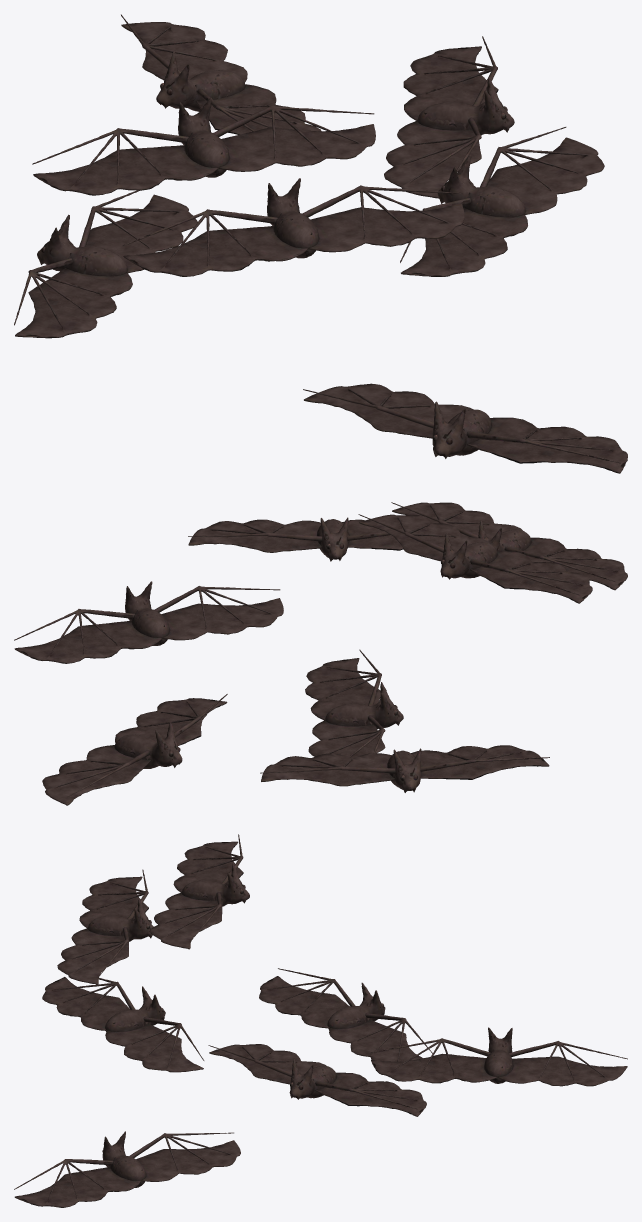
The model's file is bat_swarm.glb.
3 views of the same model, one above another, from view 1: azimuth 30°, elevation 25°; view 2: azimuth 150°, elevation 25°; view 3: azimuth 270°, elevation 25° (orthographic). The views are drawn at different scales.
Visible parts, largest first — view 1: Wing_L_6_Membrane, Wing_L_2_Membrane, Wing_R_2_Membrane, Wing_R_6_Membrane, Wing_L_0_Membrane, Wing_R_5_Membrane, Wing_L_1_Membrane, Wing_R_3_Membrane, Wing_R_0_Membrane, Wing_L_5_Membrane, Wing_R_1_Membrane, Wing_L_3_Membrane (+9 smaller); view 2: Wing_L_3_Membrane, Wing_R_3_Membrane, Wing_L_2_Membrane, Wing_R_4_Membrane, Wing_R_0_Membrane, Wing_R_5_Membrane, Wing_L_0_Membrane, Wing_L_1_Membrane, Wing_R_2_Membrane, Wing_L_4_Membrane, Wing_L_6_Membrane, Wing_R_1_Membrane (+9 smaller); view 3: Wing_R_4_Membrane, Wing_L_4_Membrane, Wing_L_1_Membrane, Wing_R_1_Membrane, Wing_R_5_Membrane, Wing_L_0_Membrane, Wing_L_5_Membrane, Wing_L_3_Membrane, Wing_R_0_Membrane, Wing_R_2_Membrane, Wing_R_6_Membrane, Wing_R_3_Membrane (+9 smaller).
Boxes of the visible parts, bbox=[...] form: Wing_L_6_Membrane: bbox=[122, 209, 308, 276]; Wing_L_2_Membrane: bbox=[32, 128, 218, 195]; Wing_R_2_Membrane: bbox=[213, 105, 375, 171]; Wing_R_6_Membrane: bbox=[302, 185, 464, 252]; Wing_L_0_Membrane: bbox=[14, 258, 132, 338]; Wing_R_5_Membrane: bbox=[480, 127, 604, 214]; Wing_L_1_Membrane: bbox=[467, 417, 627, 473]; Wing_R_3_Membrane: bbox=[384, 118, 481, 198]; Wing_R_0_Membrane: bbox=[79, 190, 197, 273]; Wing_L_5_Membrane: bbox=[400, 197, 527, 276]; Wing_R_1_Membrane: bbox=[303, 383, 472, 438]; Wing_L_3_Membrane: bbox=[403, 36, 498, 120]; Wing_L_3_Membrane: bbox=[14, 609, 162, 663]; Wing_R_3_Membrane: bbox=[154, 586, 283, 640]; Wing_L_2_Membrane: bbox=[470, 550, 592, 603]; Wing_R_4_Membrane: bbox=[42, 745, 150, 805]; Wing_R_0_Membrane: bbox=[260, 753, 395, 786]; Wing_R_5_Membrane: bbox=[188, 519, 322, 552]; Wing_L_0_Membrane: bbox=[411, 745, 549, 779]; Wing_L_1_Membrane: bbox=[305, 649, 381, 720]; Wing_R_2_Membrane: bbox=[358, 514, 489, 561]; Wing_L_4_Membrane: bbox=[115, 694, 227, 745]; Wing_L_6_Membrane: bbox=[505, 537, 627, 590]; Wing_R_1_Membrane: bbox=[308, 715, 385, 757]; Wing_R_4_Membrane: bbox=[497, 1041, 627, 1086]; Wing_L_4_Membrane: bbox=[370, 1038, 497, 1083]; Wing_L_1_Membrane: bbox=[14, 1159, 141, 1207]; Wing_R_1_Membrane: bbox=[129, 1132, 240, 1181]; Wing_R_5_Membrane: bbox=[105, 1017, 204, 1072]; Wing_L_0_Membrane: bbox=[259, 968, 355, 1028]; Wing_L_5_Membrane: bbox=[42, 977, 135, 1030]; Wing_L_3_Membrane: bbox=[315, 1072, 426, 1116]; Wing_R_0_Membrane: bbox=[329, 1013, 432, 1061]; Wing_R_2_Membrane: bbox=[150, 892, 222, 949]; Wing_R_6_Membrane: bbox=[57, 927, 128, 984]; Wing_R_3_Membrane: bbox=[208, 1044, 326, 1084].
Size of the model in its own units: 2.05 by 1.18 by 2.66.
1 material, 1 textured.
